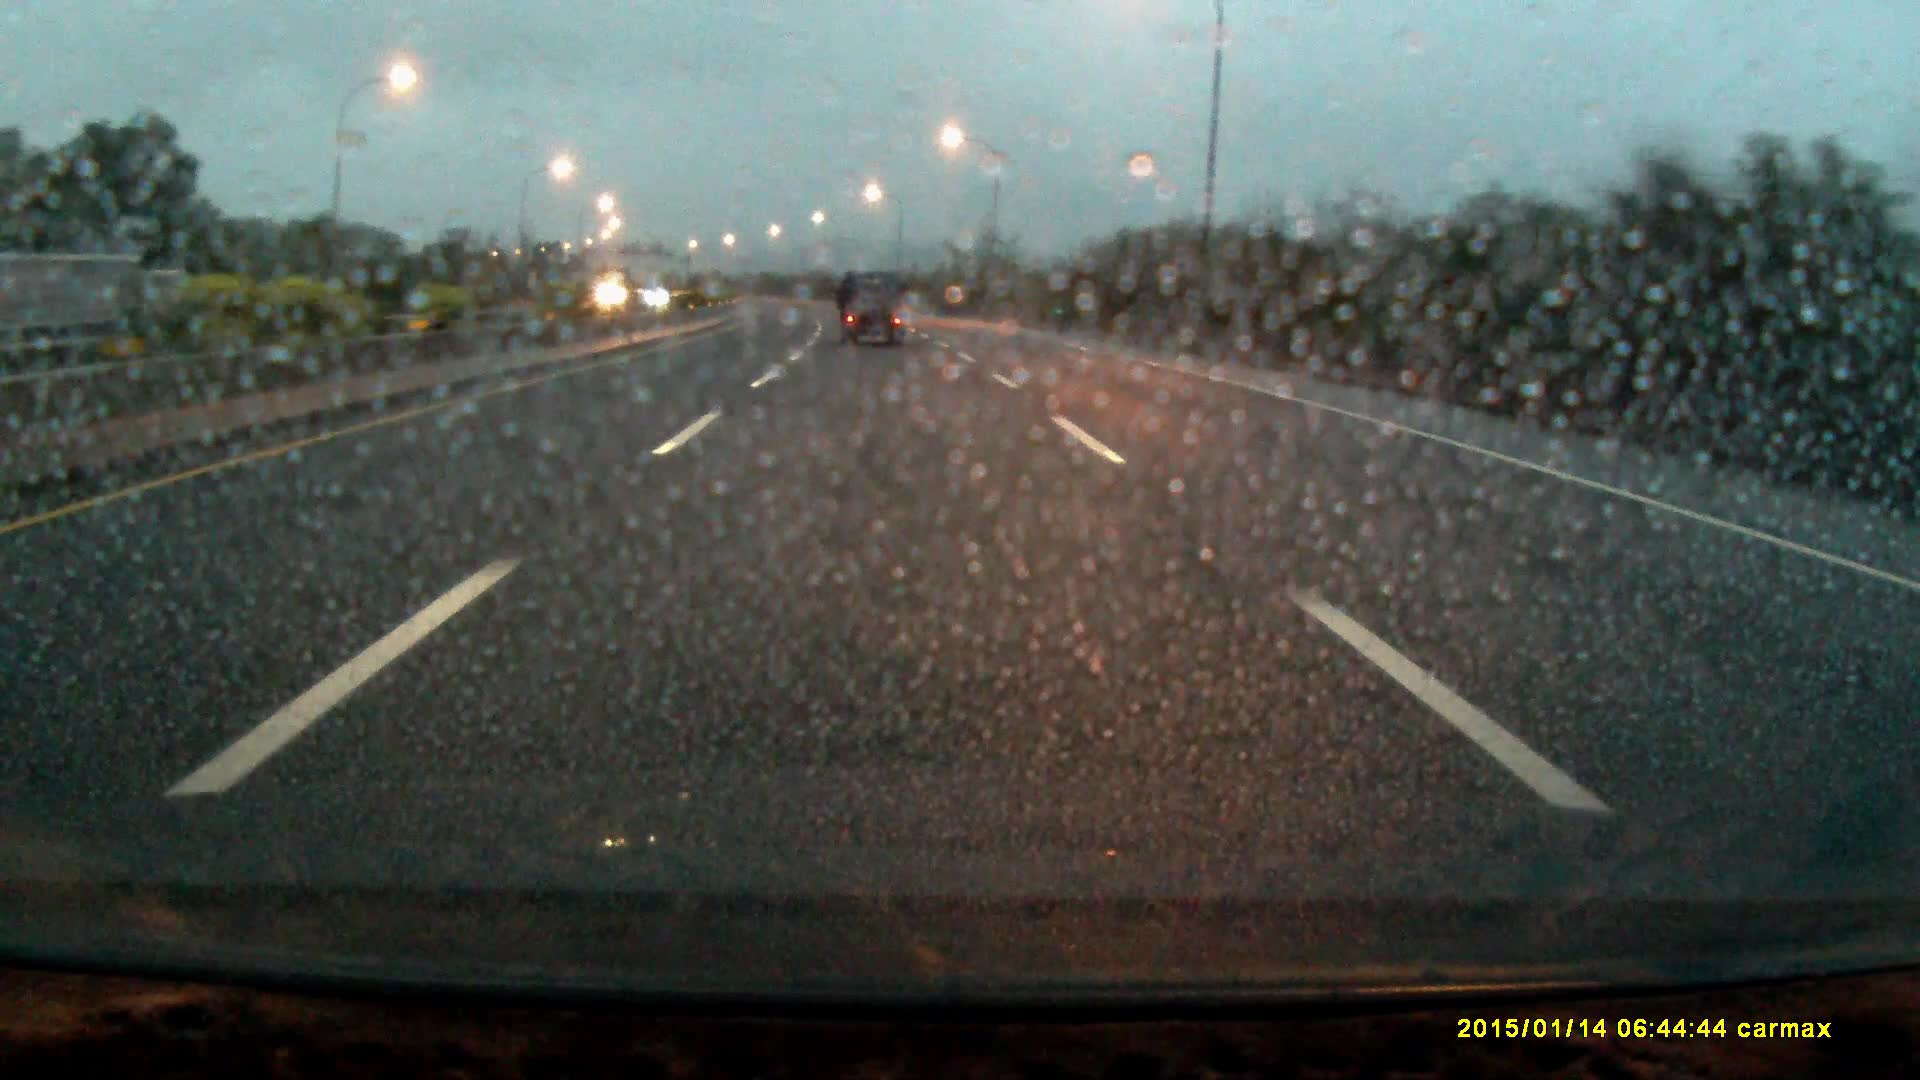vehicle: (840, 274, 910, 353)
